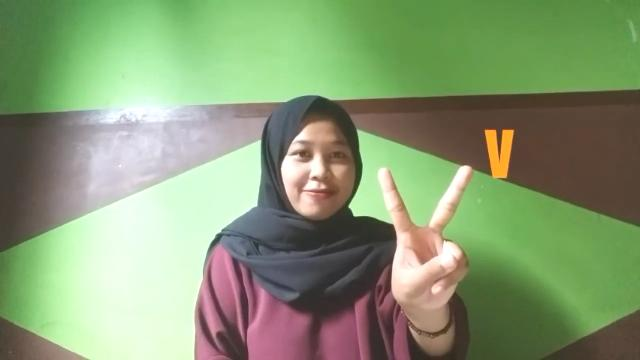V: (376, 162, 478, 314)
